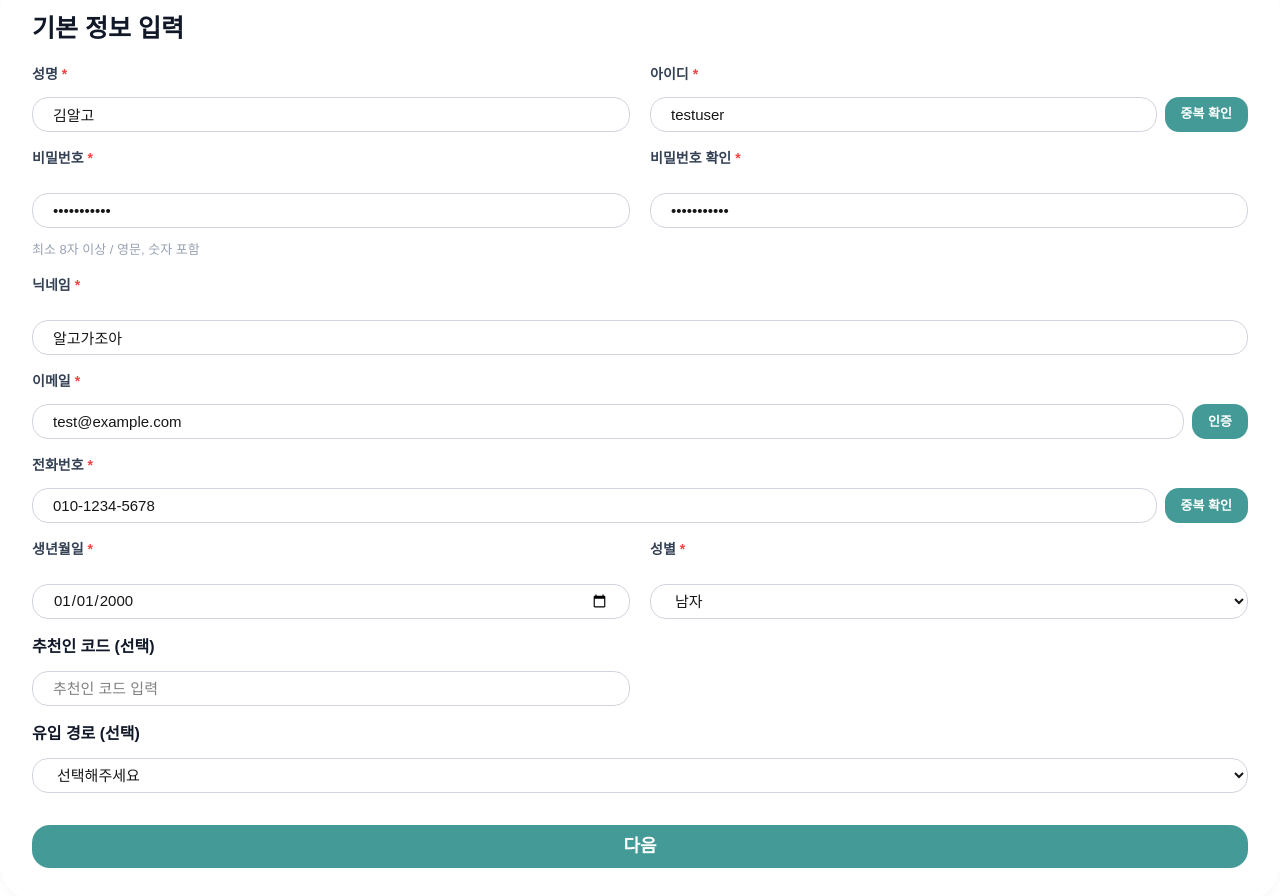
Test: RegisterInfoForm 컴포넌트 테스트 › 아이디 중복 확인을 하지 않으면 다음 단계로 이동하지 않고 안내 문구가 보인다
The width and height of the screenshot is (1280, 896).
(page scrolled)
Step 1. Click the button with aria-label "다음 단계로 이동" → x=640, y=846, box [32,825,1248,868]
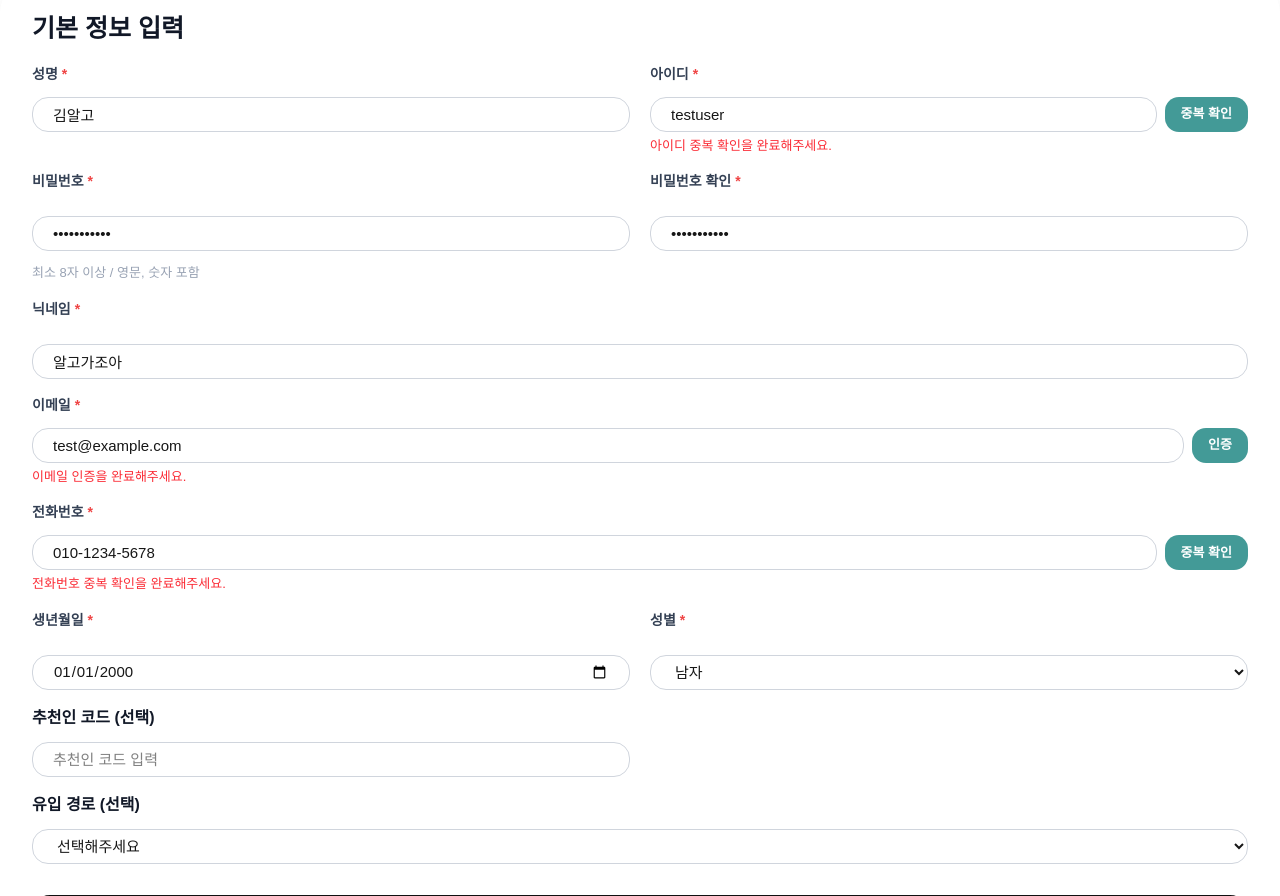
Now the text "아이디 중복 확인을 완료해주세요." is shown, box [650,138,832,152]
